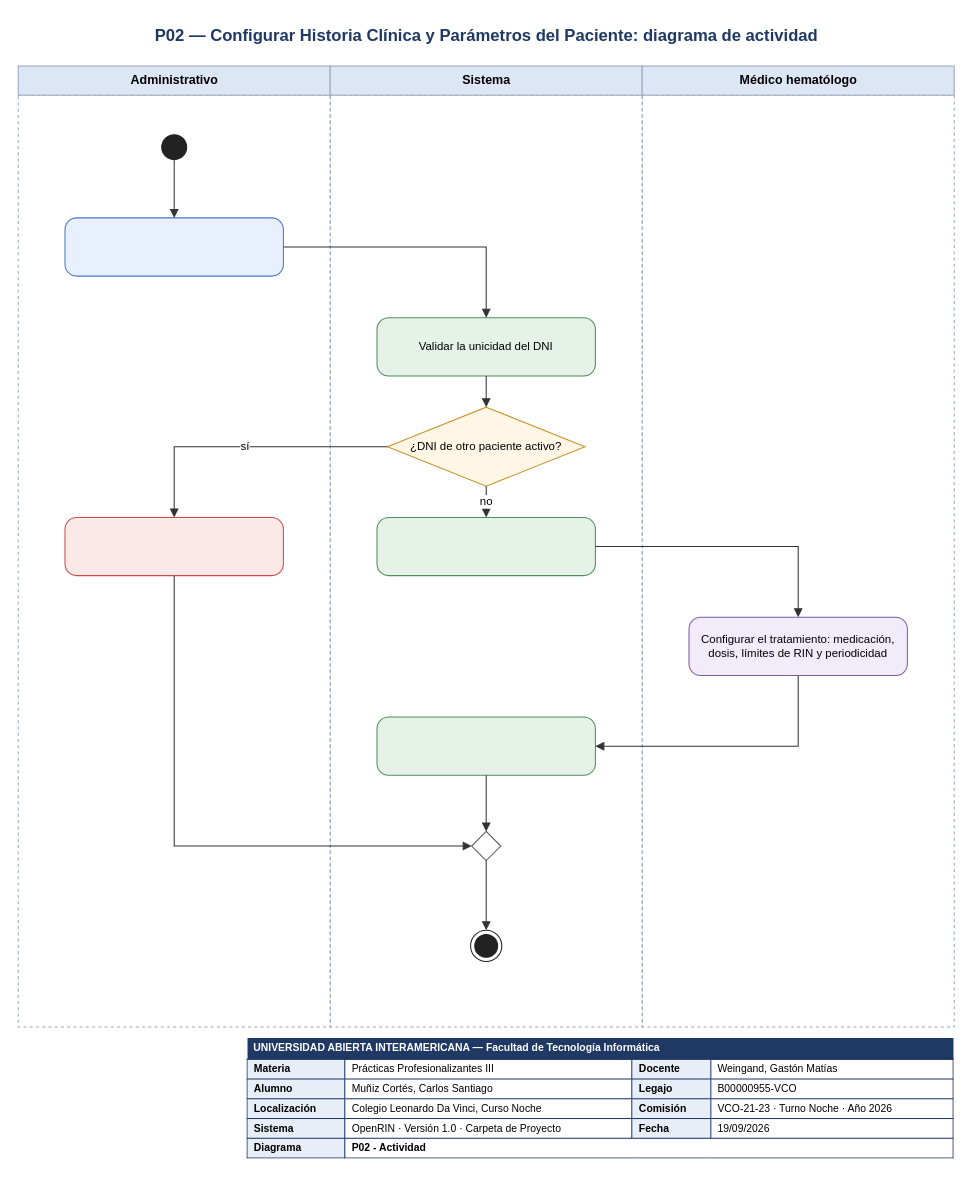
This 972x1197 diagram has some shape labels left out. Here are the shapes that lost their labels. From the top down, the centre of each, then its label:
the point at 173,246: Registrar al paciente (DNI, contacto, obra social)
the point at 173,546: Rechazar con el detalle del conflicto
the point at 485,546: Persistir al paciente y generar las credenciales del portal
the point at 485,745: Calcular y guardar el próximo control según la periodicidad
